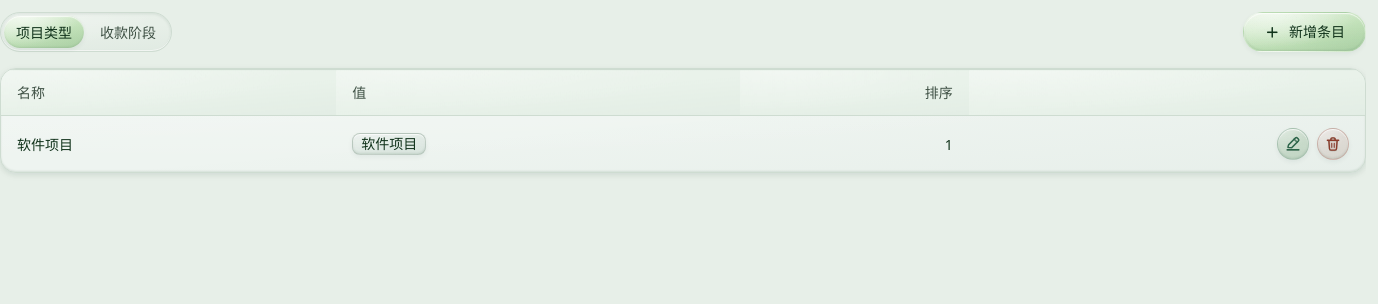
Test: DictionaryManagement request integrity › shows a scope-specific error without leaking old rows when switching to a failing dictionary
Expected: the row "软件项目 软件项目 1" is shown, [1,116,1365,172]
Click the tab "收款阶段" at x=128, y=32, box [88,16,168,48]
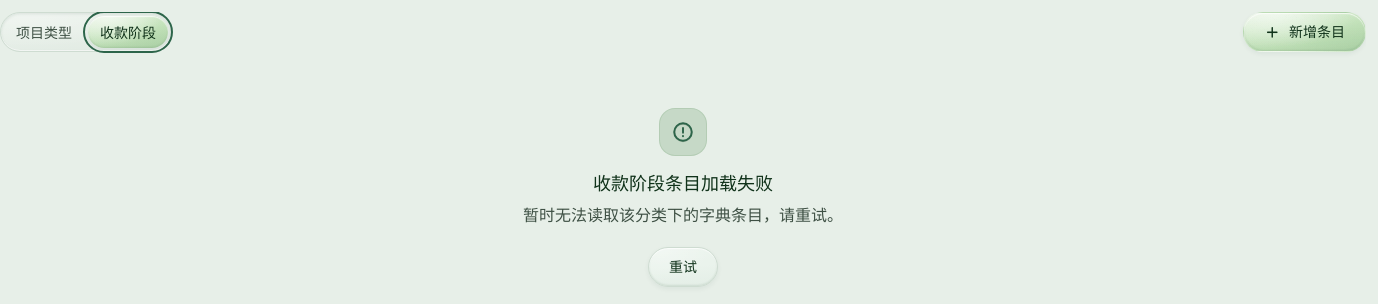
Now the message shows "收款阶段条目加载失败", box [593,171,773,195]
Now the text "软件项目" is gone
Click the button "重试" at x=683, y=267, box [648,247,718,287]
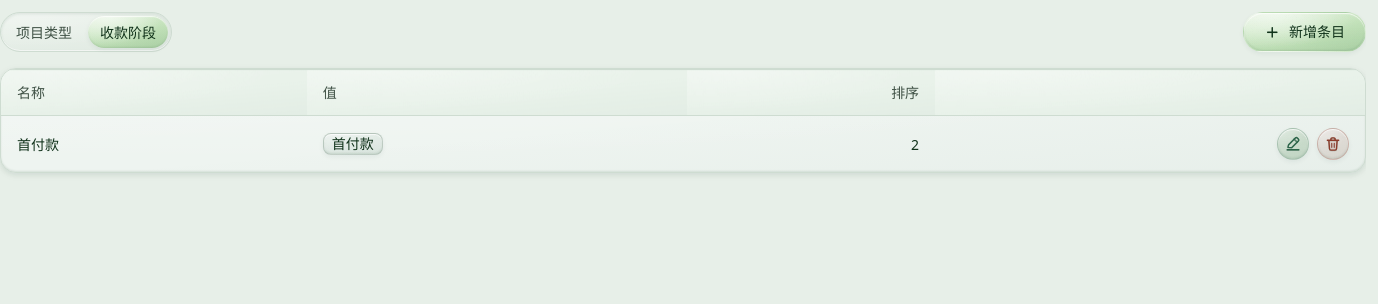
Now the row "首付款 首付款 2" is shown, box [1,116,1365,172]
